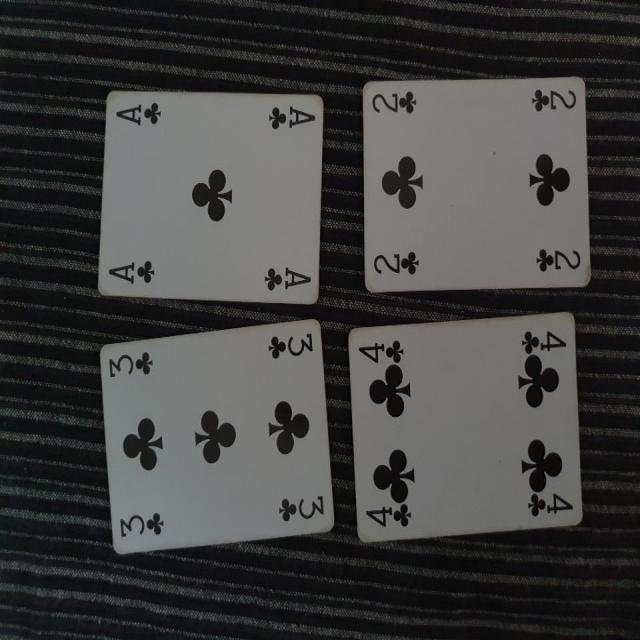2 Trefoils: (359, 73, 592, 294)
3 Trefoils: (98, 317, 335, 554)
4 Trefoils: (349, 311, 585, 546)
A Trefoils: (96, 90, 324, 306)
